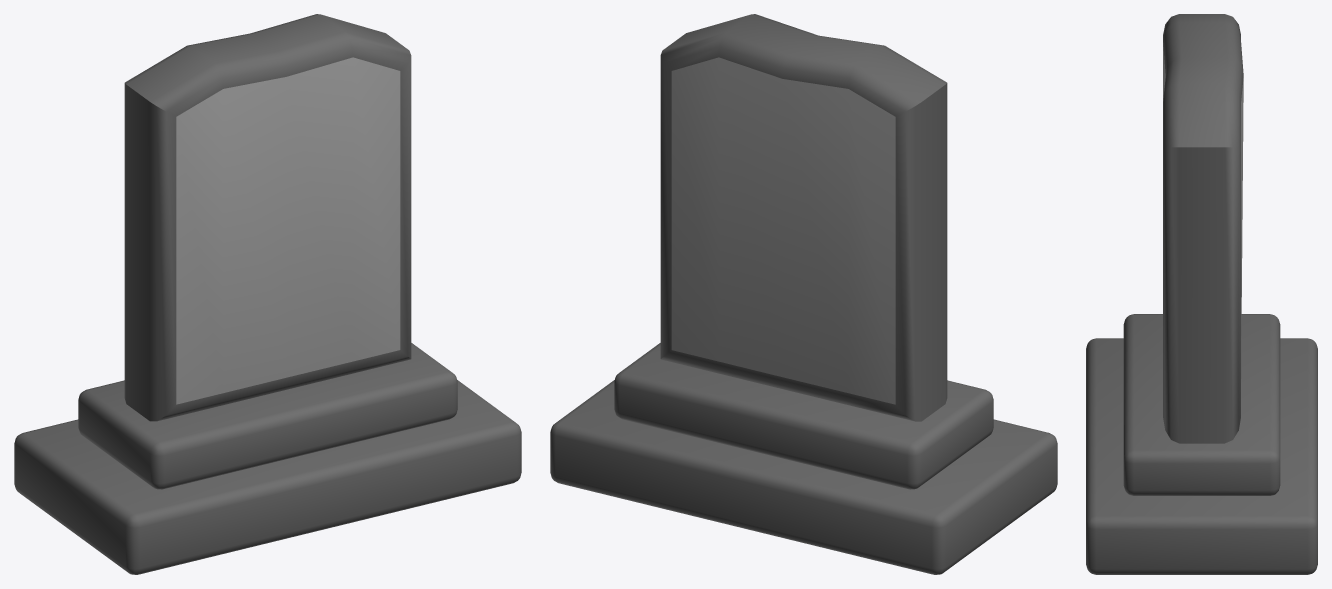
Rendered from Grave_1.fbx.
3 views of the same model, side by side, from view 1: azimuth 30°, elevation 25°; view 2: azimuth 150°, elevation 25°; view 3: azimuth 270°, elevation 25° (orthographic). The views are drawn at different scales.
Parts seen in each view (by area): view 1: Grave_1; view 2: Grave_1; view 3: Grave_1.
Part boxes in pixels (x1,y1,x2,y2): Grave_1: (14,14,521,574); Grave_1: (550,14,1057,574); Grave_1: (1086,14,1317,574).
Size of the model in its own units: 0.4815 by 0.5239 by 0.2544.
